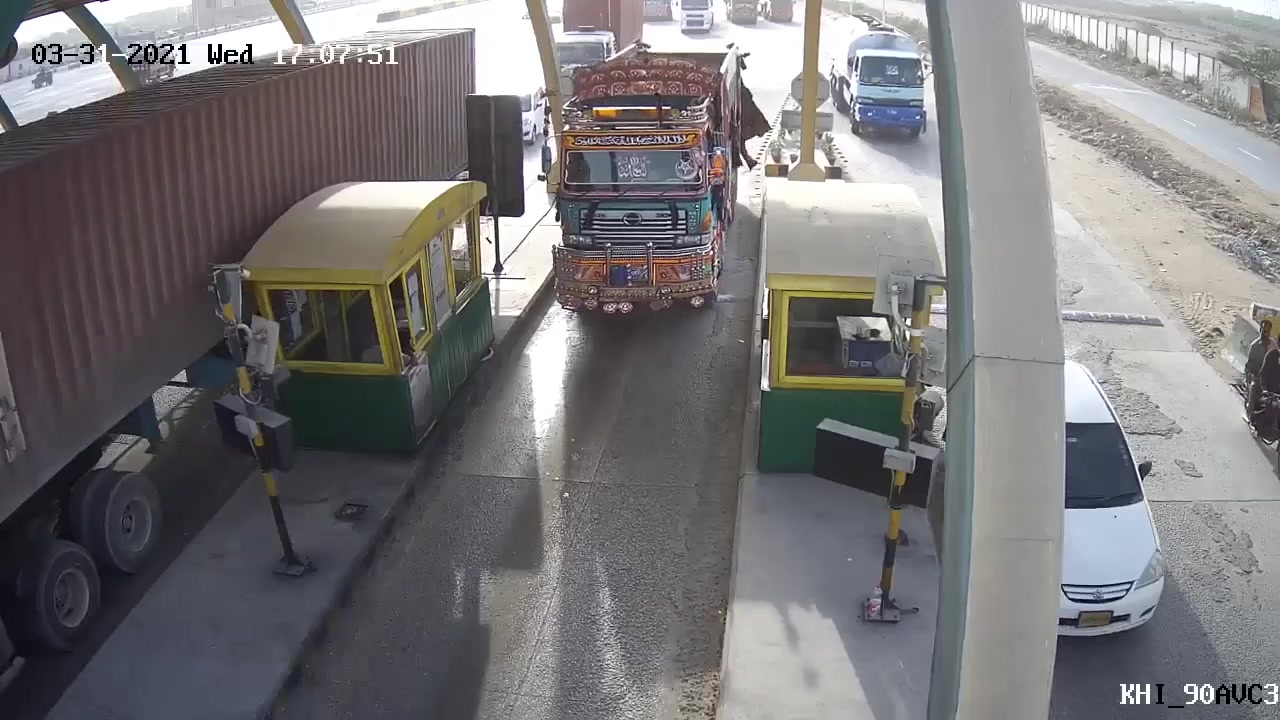F5: (510, 44, 753, 320)
